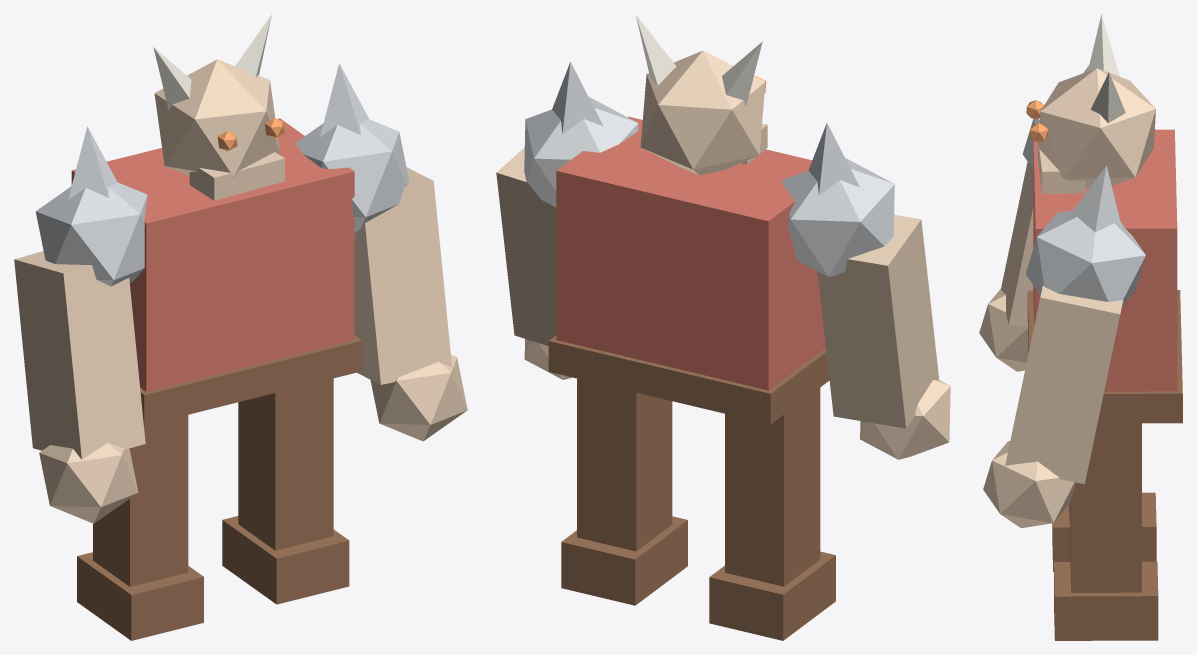
The model's file is npcpose_brute_idle_00.glb.
3 renders of one model, left to right at view 1: azimuth 30°, elevation 25°; view 2: azimuth 150°, elevation 25°; view 3: azimuth 270°, elevation 25°, orthographic. The views are drawn at different scales.
Parts seen in each view (by area): view 1: npcpose; view 2: npcpose; view 3: npcpose.
Part boxes in pixels (bbox=[...]): npcpose: bbox=[14, 14, 467, 640]; npcpose: bbox=[496, 14, 950, 640]; npcpose: bbox=[979, 14, 1182, 640].
Bounding box in the file's own units: 1.43 × 1.86 × 0.6283.
